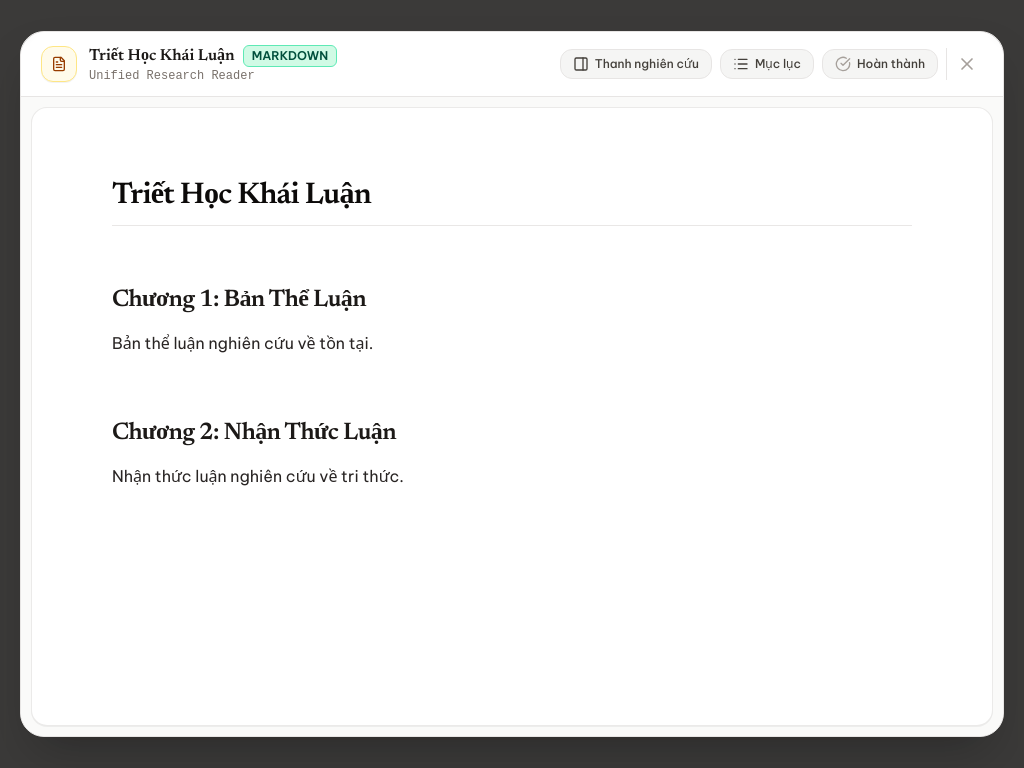
Phase R3B: Reader Sidebar In-Reader Note Citation Jump › 4. Phase 21B: Backlink Occurrence Navigation & Reader Context Preservation › 4.1. clicking a backlink passes targetCitation hint to NoteReaderModal and scrolls to target occurrence
The width and height of the screenshot is (1024, 768).
What coordinates should you click on to do the following:
click the button with test id "reader-toggle-sidebar-btn"
I would click on:
 (636, 64)
Its box is [560,49,712,79].
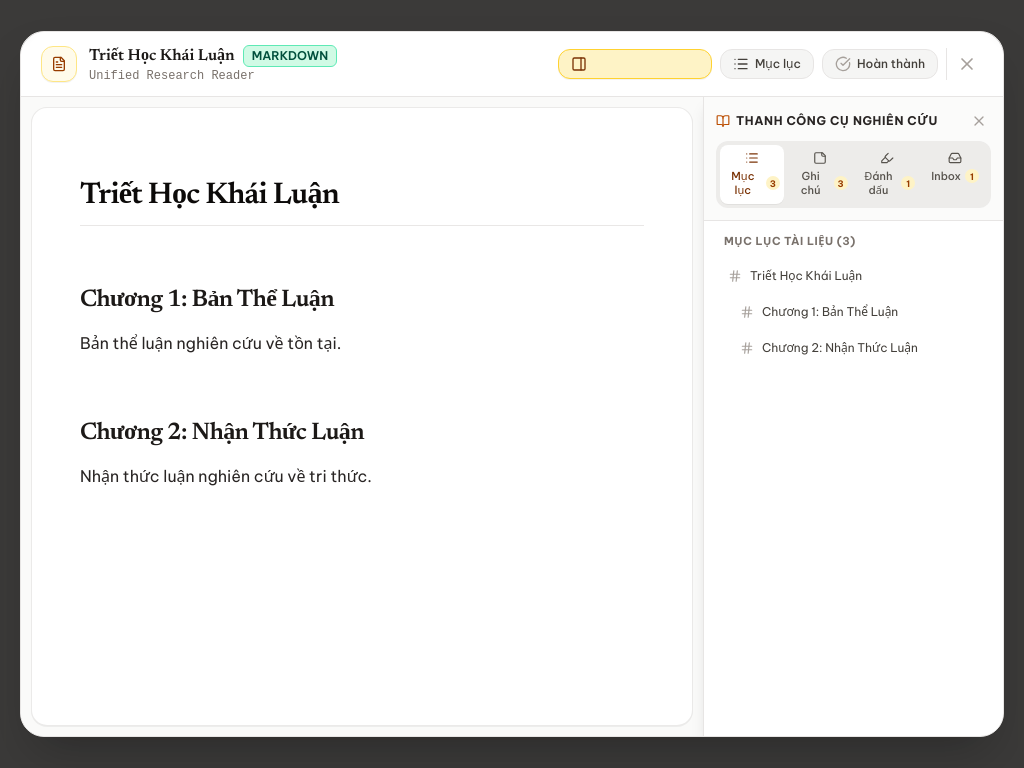
What coordinates should you click on to do the following:
click the tab with test id "sidebar-tab-notes"
I would click on:
 (820, 174)
Its box is [788,145,852,204].
(page scrolled)
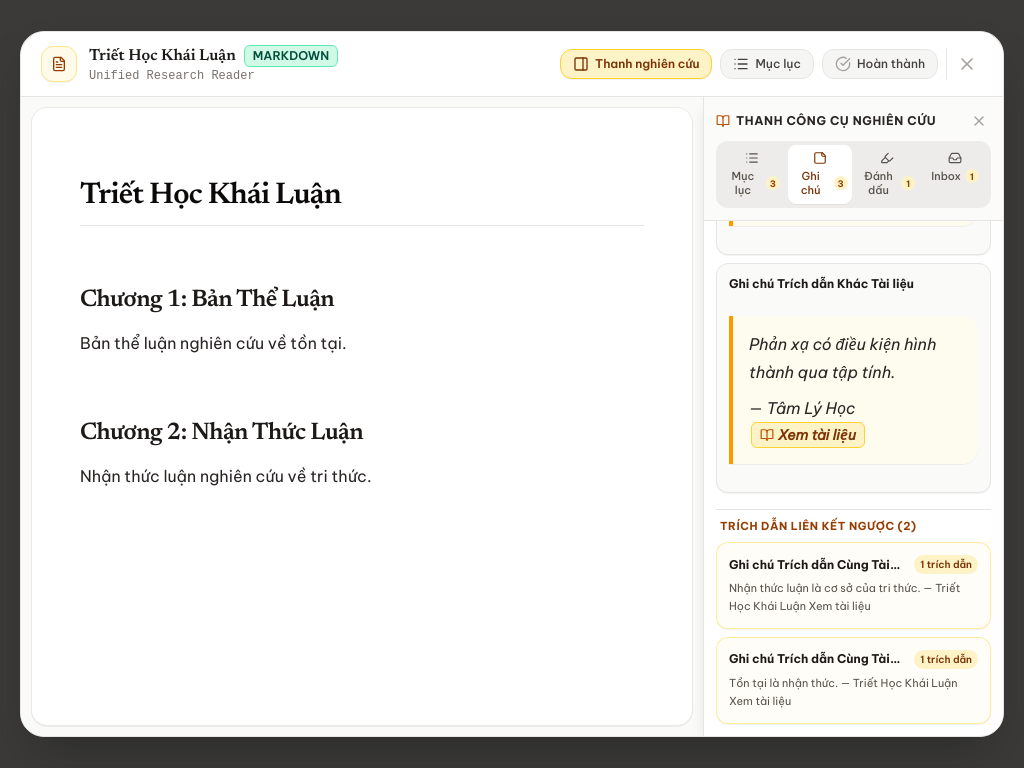
What coordinates should you click on to do the following:
click the heading "Ghi chú Trích dẫn Cùng Tài liệu có Locator"
I would click on:
 (818, 564)
Its box is [729,556,906,572].
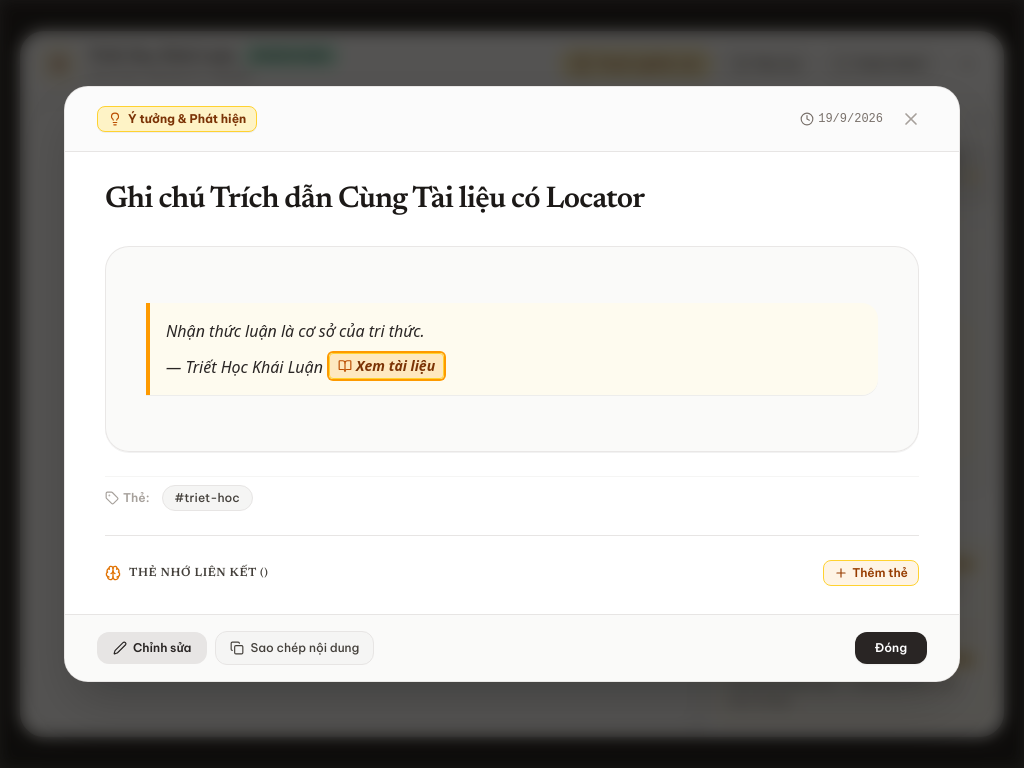
Expected: the dialog named "Chi tiết ghi chú" is shown
